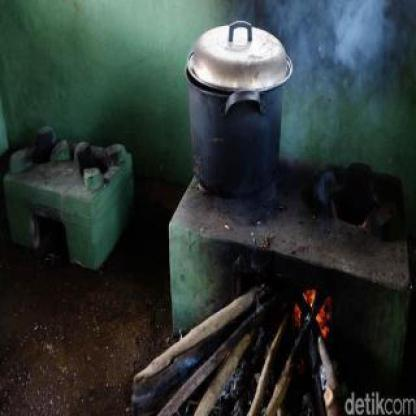fire: (293, 283, 331, 337)
